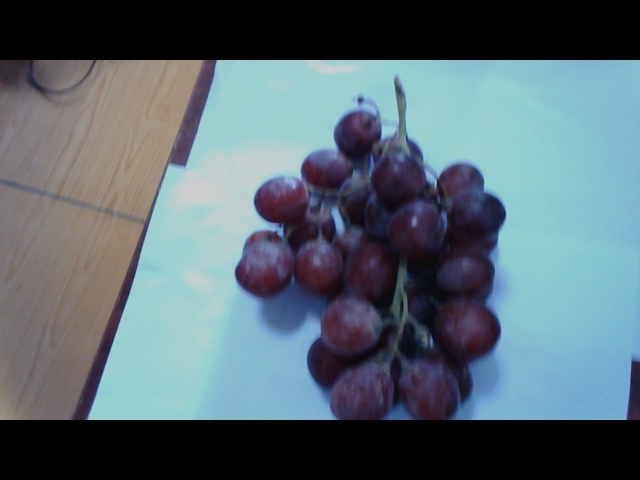grape: (248, 107, 505, 417)
